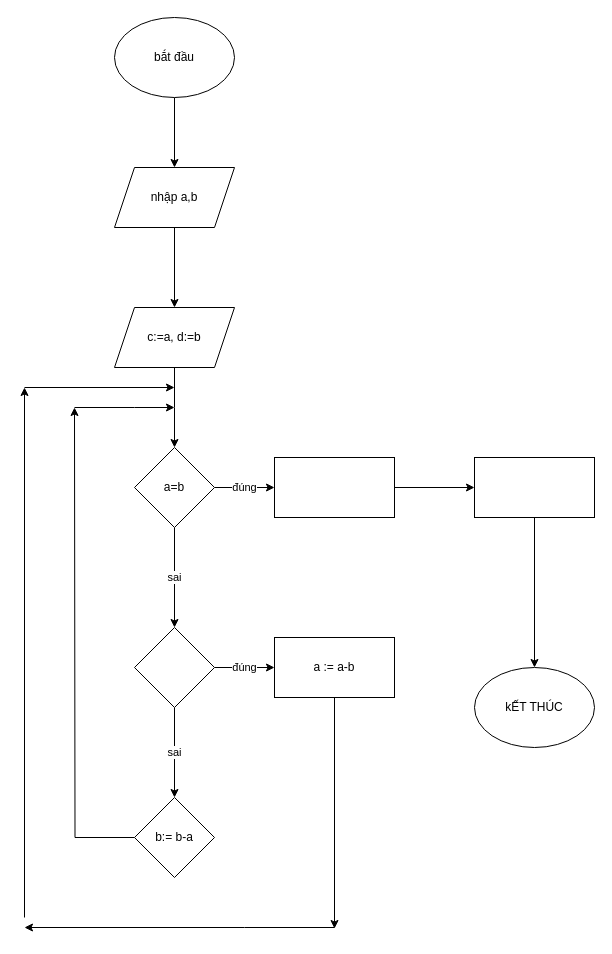
Some shapes in this 612 by 954 pixel diagram are drawn without their labels. The shapes that lost their labels are listed below. From the top down, each one's box as (x1, y1, x2, y2) in pixels, then its label:
(274, 456, 394, 518): UCLN := a
(474, 456, 594, 518): BCNN + (c.d)/UCLN
(134, 626, 214, 708): a>b
